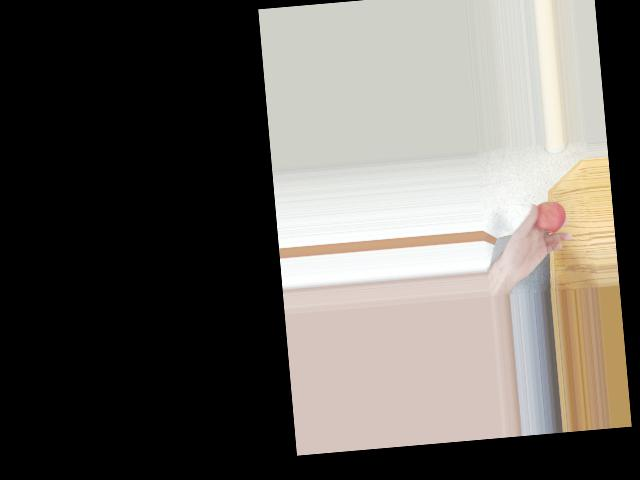apple: (528, 199, 568, 239)
